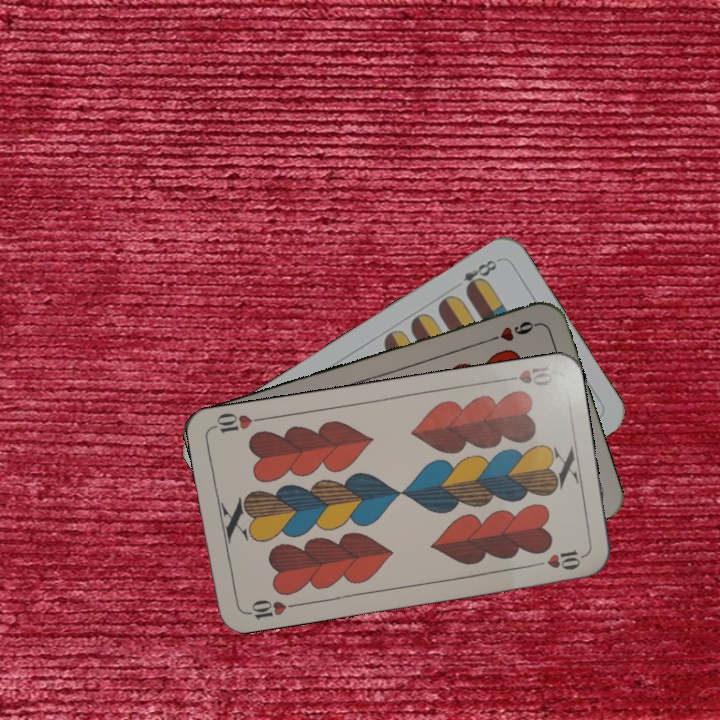E8: (458, 255, 502, 295)
H10: (240, 595, 299, 623), (497, 361, 555, 389)
H9: (483, 317, 541, 345)
